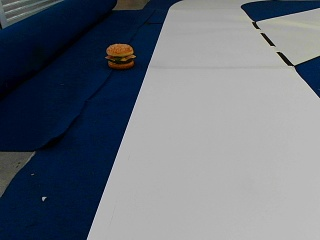burger: (105, 41, 135, 68)
